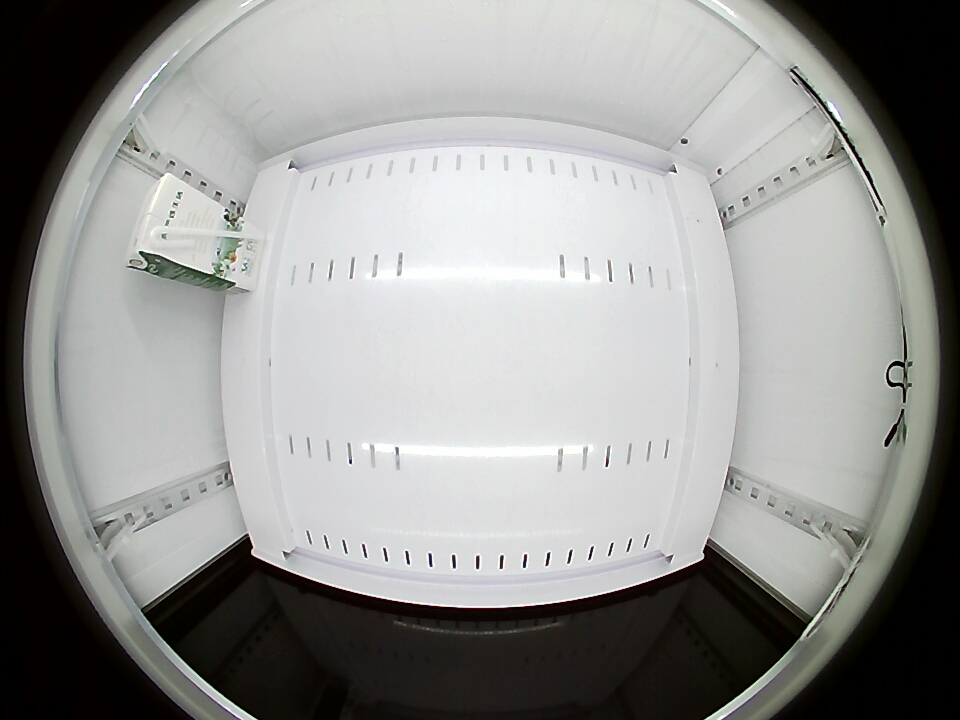jindian: (125, 173, 203, 276)
